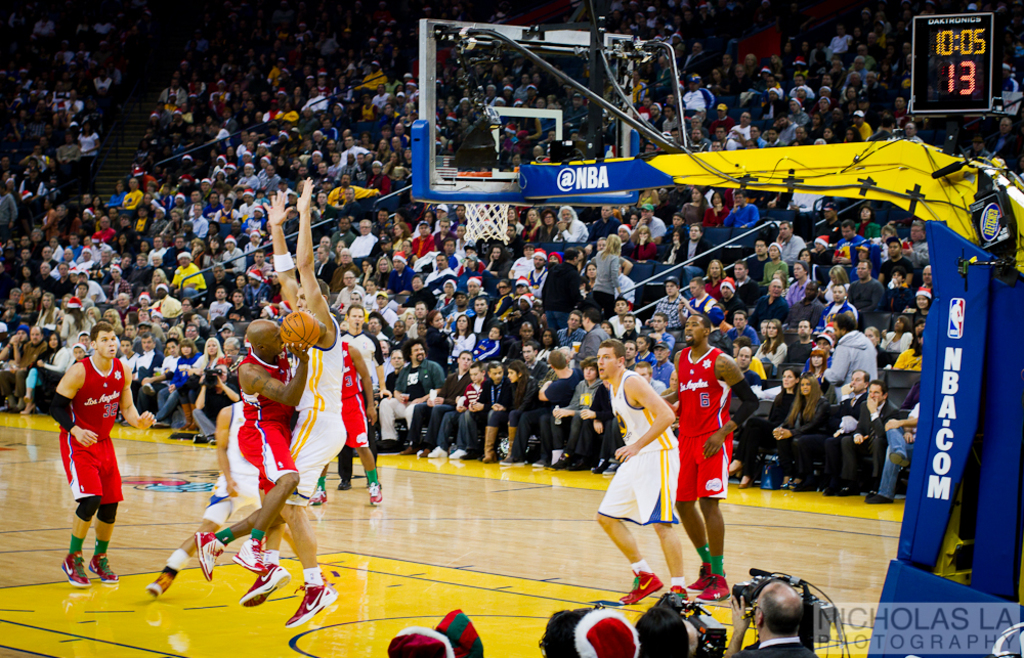Ball: (280, 311, 323, 355)
